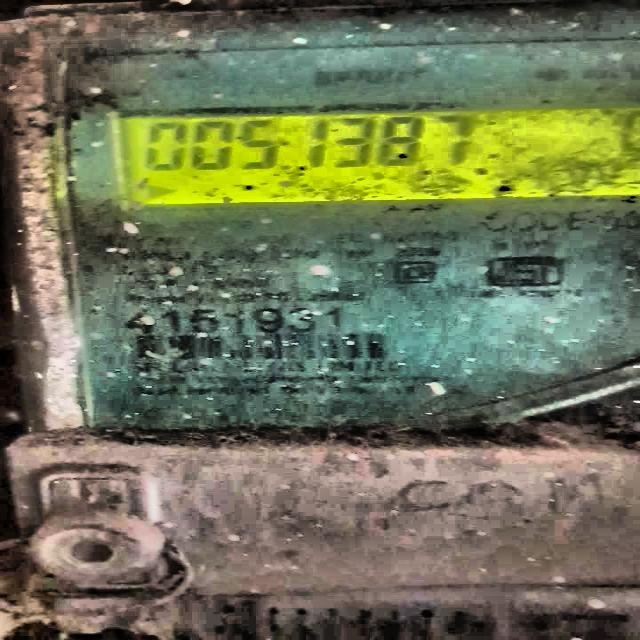Reading: (140, 112, 487, 173)
Serial No.: (117, 306, 350, 333)
